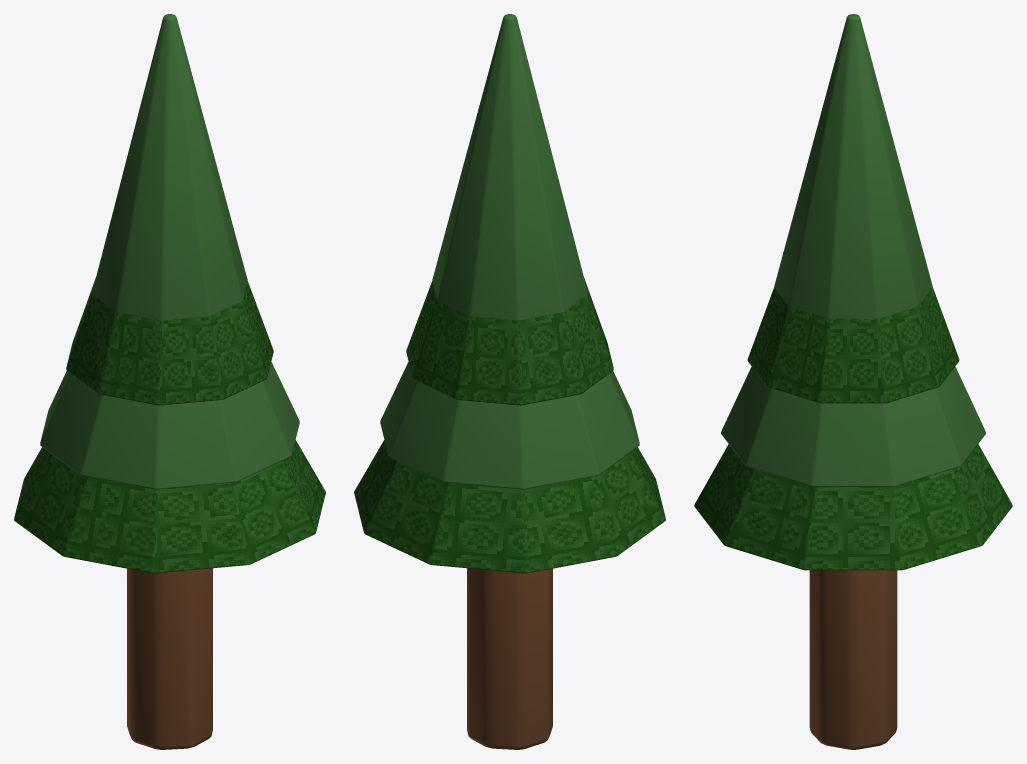
The model's file is pine_tree.glb.
3 renders of one model, left to right at view 1: azimuth 30°, elevation 25°; view 2: azimuth 150°, elevation 25°; view 3: azimuth 270°, elevation 25°, orthographic.
Parts seen in each view (by area): view 1: pine_tree_leaf_dark, pine_tree_leaf, pine_tree_trunk; view 2: pine_tree_leaf_dark, pine_tree_leaf, pine_tree_trunk; view 3: pine_tree_leaf_dark, pine_tree_leaf, pine_tree_trunk.
Boxes of the visible parts, box(x1,y1,x2,y2) form: pine_tree_leaf_dark: box(40, 14, 299, 489); pine_tree_leaf: box(14, 278, 325, 573); pine_tree_trunk: box(127, 568, 212, 749); pine_tree_leaf_dark: box(380, 14, 639, 489); pine_tree_leaf: box(354, 278, 665, 573); pine_tree_trunk: box(467, 568, 552, 749); pine_tree_leaf_dark: box(721, 14, 985, 486); pine_tree_leaf: box(694, 287, 1012, 570); pine_tree_trunk: box(809, 570, 897, 749).
Size of the model in its own units: 2.27 by 5.93 by 2.38.
Materials: 3 (1 with a texture image).
